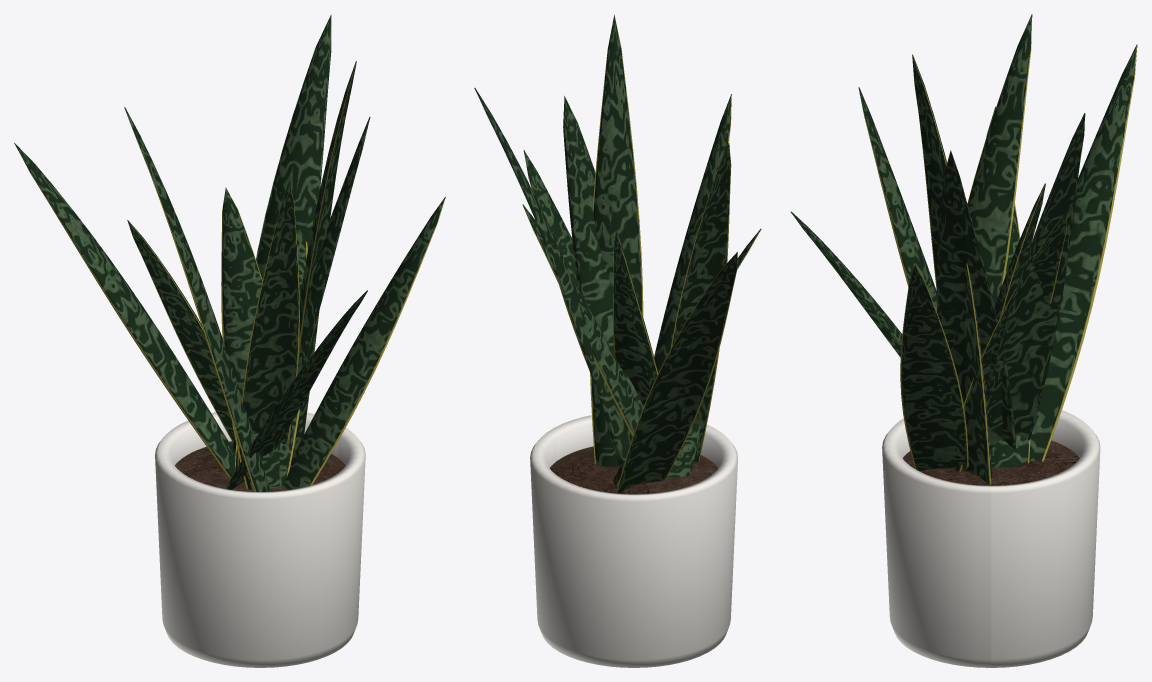
Rendered from sansevieria_55.glb.
3 views of the same model, side by side, from view 1: azimuth 30°, elevation 25°; view 2: azimuth 150°, elevation 25°; view 3: azimuth 270°, elevation 25° (orthographic). The views are drawn at different scales.
Parts seen in each view (by area): view 1: sansevieria_55; view 2: sansevieria_55; view 3: sansevieria_55.
Part boxes in pixels (left/top/right/bottom): sansevieria_55: left=14, top=14, right=445, bottom=667; sansevieria_55: left=474, top=14, right=761, bottom=667; sansevieria_55: left=790, top=14, right=1137, bottom=667.
Bounding box in the file's own units: 0.32 × 0.55 × 0.2863.
Materials: 3 (2 with a texture image).
